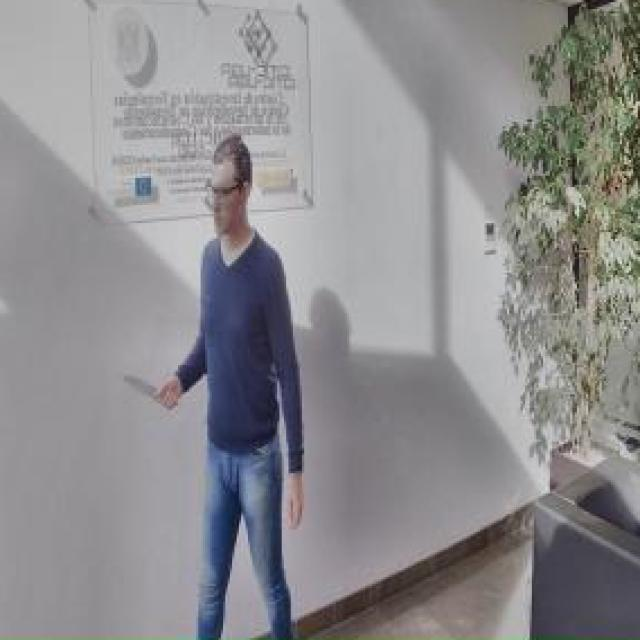knife: (119, 368, 182, 412)
